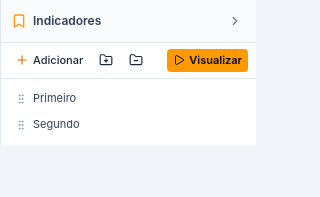
BookmarksPane › o modo Visualizar entra aplicando o primeiro indicador e navega com próximo/anterior
Click the button "Visualizar". click: (208, 60)
box: [167,49,248,72]
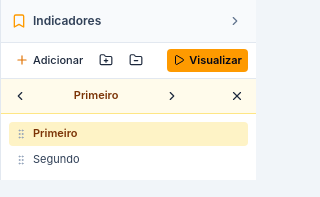
Now the button titled "Próximo" is shown
Click the button titled "Próximo". click: (172, 96)
box: [161,85,183,107]
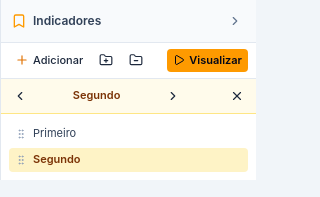
Now the 1st text "Segundo" is shown, box [73,88,120,103]
